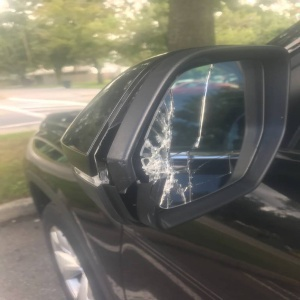side_mirror: (88, 45, 290, 227)
